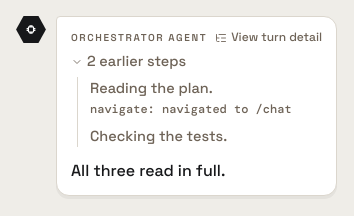
Test: Conversation › folds the earlier steps under the answer and expands them on click
The image size is (354, 216).
expect the text "All three read in full." is shown: met, box [71,160,225,181]
expect the text "Reading the plan." is shown: met, box [90,77,213,99]
Click the button "2 earlier steps" at (129, 62), box [71,50,186,73]
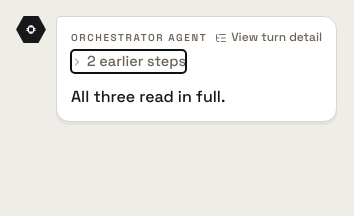
expect the text "All three read in full." is shown: met, box [71,86,225,107]
expect the button "2 earlier steps" is collapsed: met, box [71,50,186,73]
expect the button "Reading the plan." is gone: met
